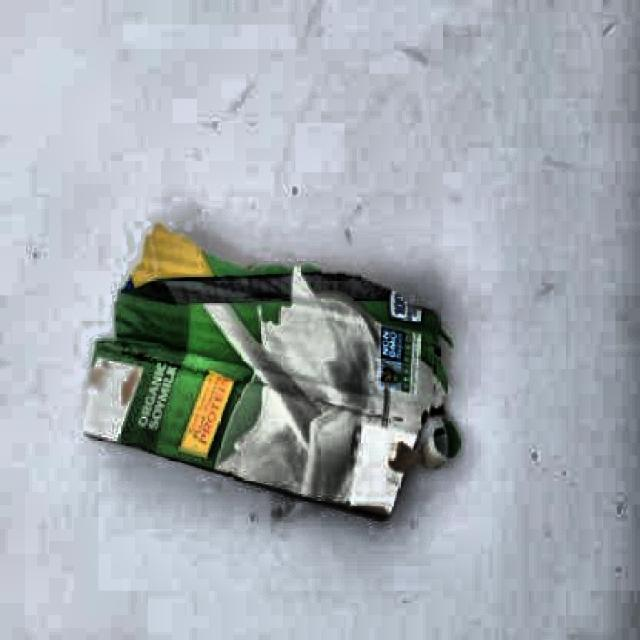Cardbox: (68, 208, 491, 544)
